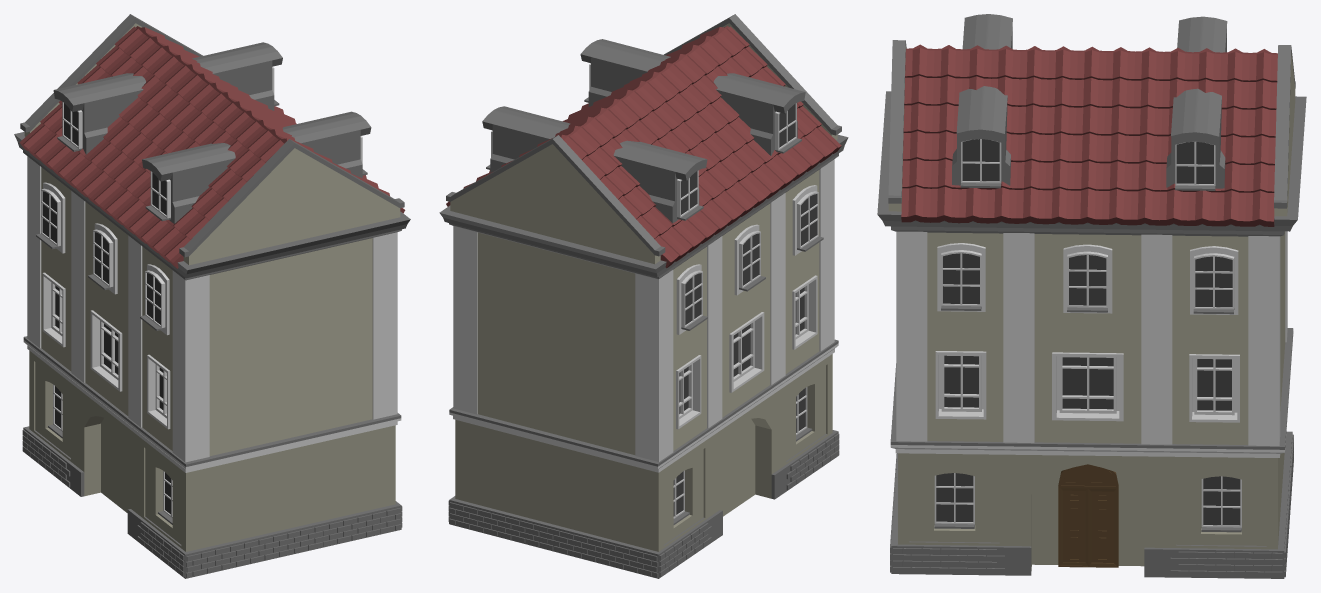
Rendered from building1_small_lev3.glb.
3 views of the same model, side by side, from view 1: azimuth 30°, elevation 25°; view 2: azimuth 150°, elevation 25°; view 3: azimuth 270°, elevation 25° (orthographic). The views are drawn at different scales.
Visible parts, largest first — view 1: building1_small_lev3; view 2: building1_small_lev3; view 3: building1_small_lev3.
Boxes of the visible parts, x1,y1,x2,y2 form: building1_small_lev3: [14, 14, 410, 578]; building1_small_lev3: [439, 14, 848, 578]; building1_small_lev3: [877, 14, 1306, 578].
Bounding box in the file's own units: 6.99 × 11.5 × 9.43.
